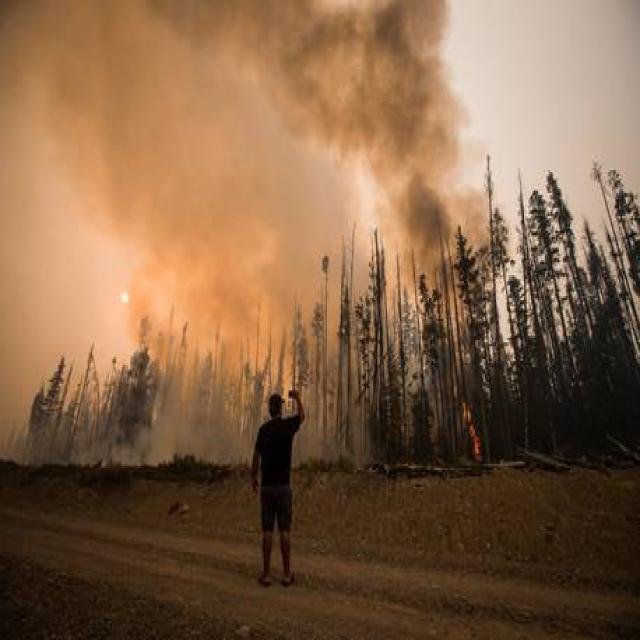Smoke: (0, 0, 501, 474)
